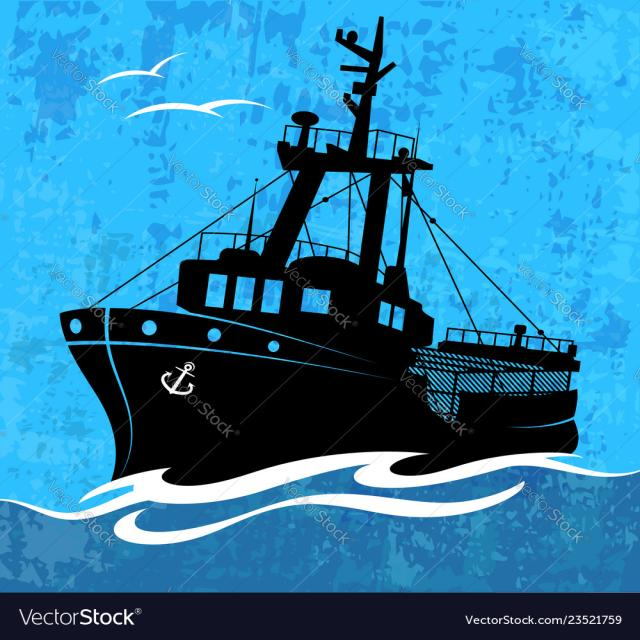boat: (44, 0, 606, 542)
